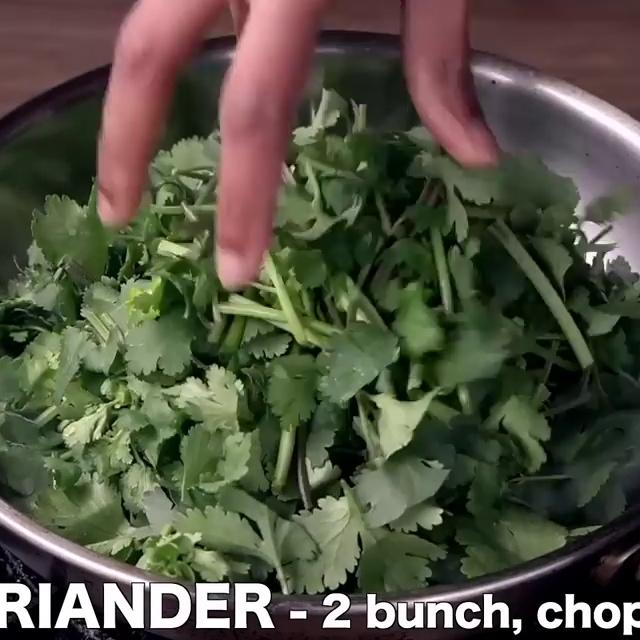cilantro: (23, 266, 640, 573)
